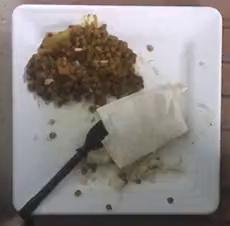lentils: (25, 13, 142, 105)
